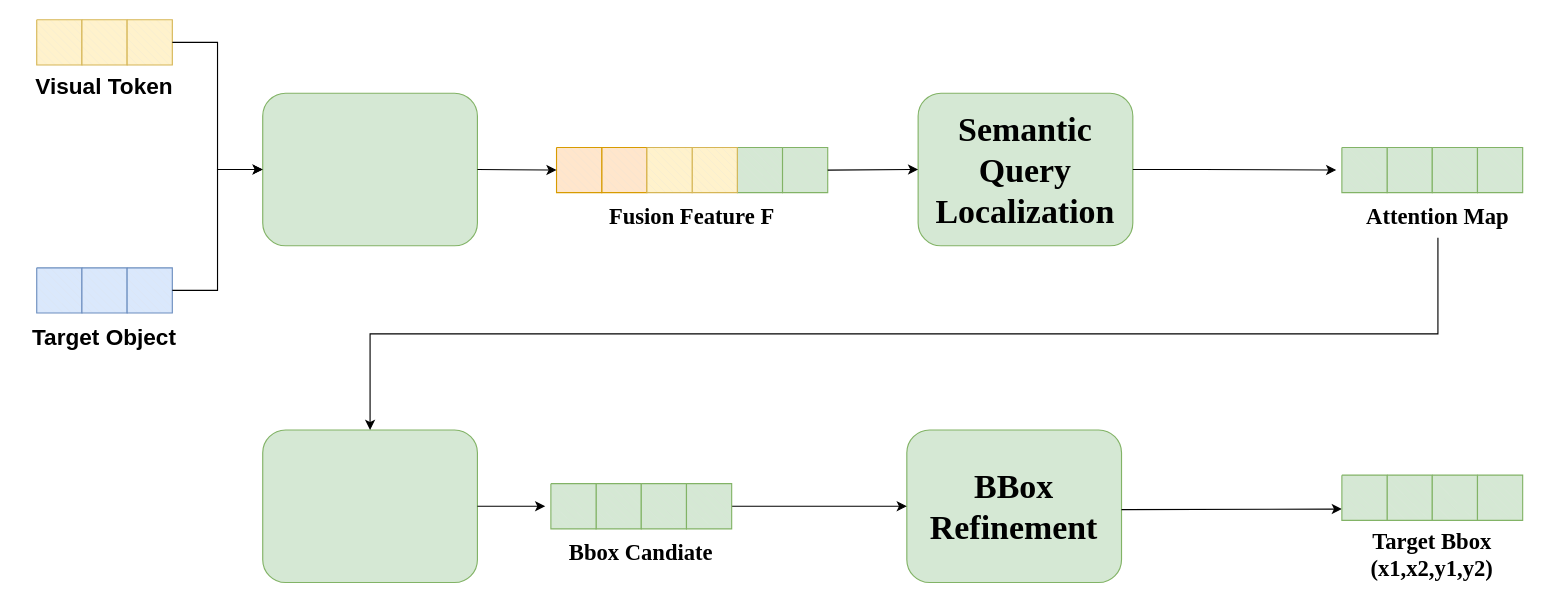
Some shapes in this 1542 by 608 pixel diagram are drawn without their labels. The centre of each missing label's shape, as x and y in pixels:
"Coordinate Conversion" belongs at (x=369, y=506).
"Multi-S cale Visual Fusion" belongs at (x=369, y=169).
